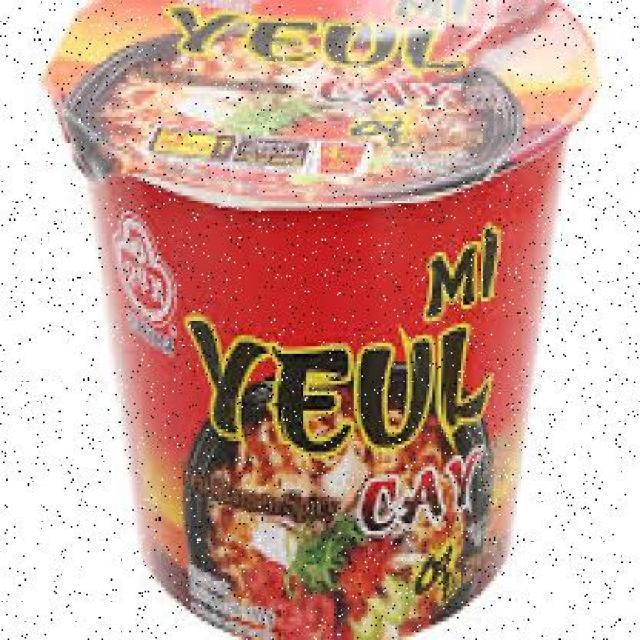Miscellaneous: (51, 0, 578, 637)
